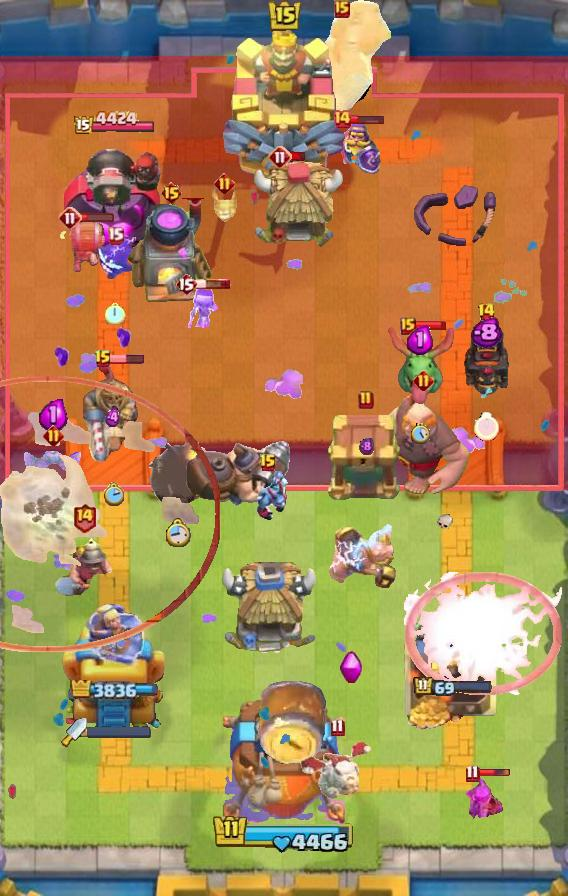archer-evolution: (461, 316, 511, 398)
baby-dragon: (148, 443, 207, 505)
balloon: (373, 396, 473, 500)
bandit: (53, 531, 115, 599)
bar: (59, 595, 169, 731)
barbarian: (22, 450, 84, 474)
barbarian-evolution: (404, 572, 562, 695)
bomb: (327, 414, 405, 502)
clock: (212, 813, 356, 855)
dirt: (256, 677, 328, 767)
electro-spirit: (470, 317, 502, 349), (39, 397, 68, 432), (407, 325, 433, 355), (105, 407, 121, 429), (359, 437, 373, 455)
electro-wizard: (383, 324, 457, 404)
elixir: (165, 518, 191, 546), (474, 411, 499, 440), (103, 482, 124, 506), (105, 302, 126, 325), (411, 423, 430, 445)
emote: (195, 278, 231, 290), (109, 353, 145, 365), (350, 113, 385, 125), (79, 213, 115, 224), (413, 320, 447, 331), (477, 768, 511, 778), (289, 150, 307, 161)
evolution-symbol: (464, 774, 506, 822)
firecracker-evolution: (334, 121, 383, 175)
freeze: (329, 522, 397, 592)
goblin: (183, 288, 219, 328)
hunter: (126, 198, 216, 306)
ice-spirit-evolution: (209, 184, 239, 222)
king-tower: (220, 21, 348, 181), (223, 698, 345, 826)
king-tower-bar: (87, 726, 151, 738)
knight: (58, 218, 108, 274)
mini-pekka: (300, 738, 374, 802)
prince: (219, 562, 321, 658), (250, 160, 344, 250)
queen-tower: (403, 613, 506, 731)
ram-rider: (83, 362, 143, 464)
royal-delivery: (247, 471, 289, 523)
royal-ghost: (0, 376, 220, 652)
selected: (72, 111, 155, 138), (413, 676, 493, 698), (69, 680, 158, 699)
skeleton-king-skill: (339, 651, 364, 685)
spear-goblin: (94, 237, 136, 283)
text: (71, 503, 96, 533), (268, 145, 292, 169), (58, 206, 82, 230), (161, 181, 184, 205), (175, 272, 197, 296), (213, 173, 234, 195), (414, 369, 435, 391), (43, 425, 64, 447), (332, 109, 352, 129), (477, 302, 496, 322), (94, 349, 112, 369), (259, 453, 277, 473), (358, 390, 374, 410), (107, 227, 124, 245), (334, 0, 350, 18), (400, 317, 416, 335), (330, 719, 345, 737), (465, 764, 479, 783)
tower-bar: (62, 138, 166, 256)
wizard: (315, 0, 391, 126), (182, 438, 294, 508)
